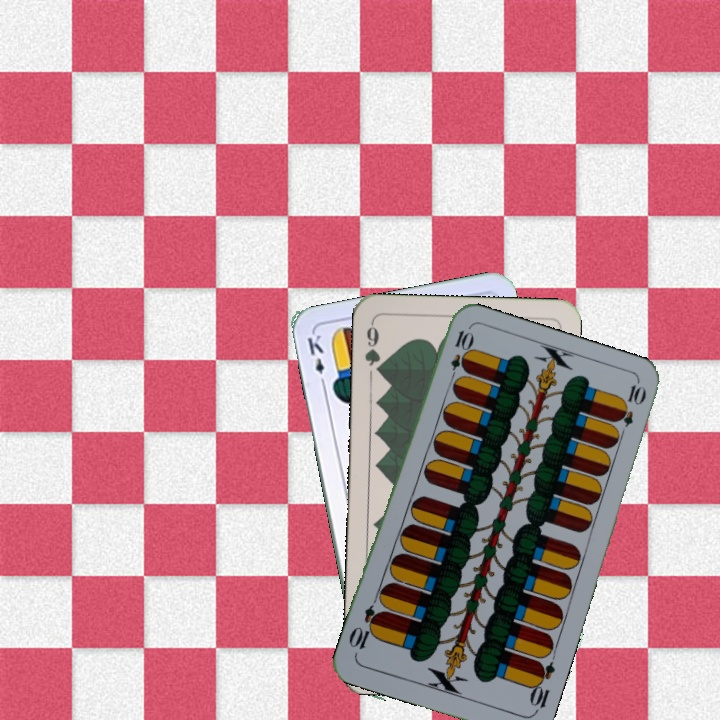E10: (525, 657, 558, 716), (446, 326, 474, 385)
EK: (303, 330, 328, 390)
G9: (360, 319, 385, 378)
